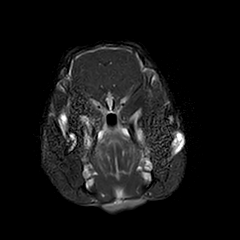Brain: (58, 18, 157, 116)
